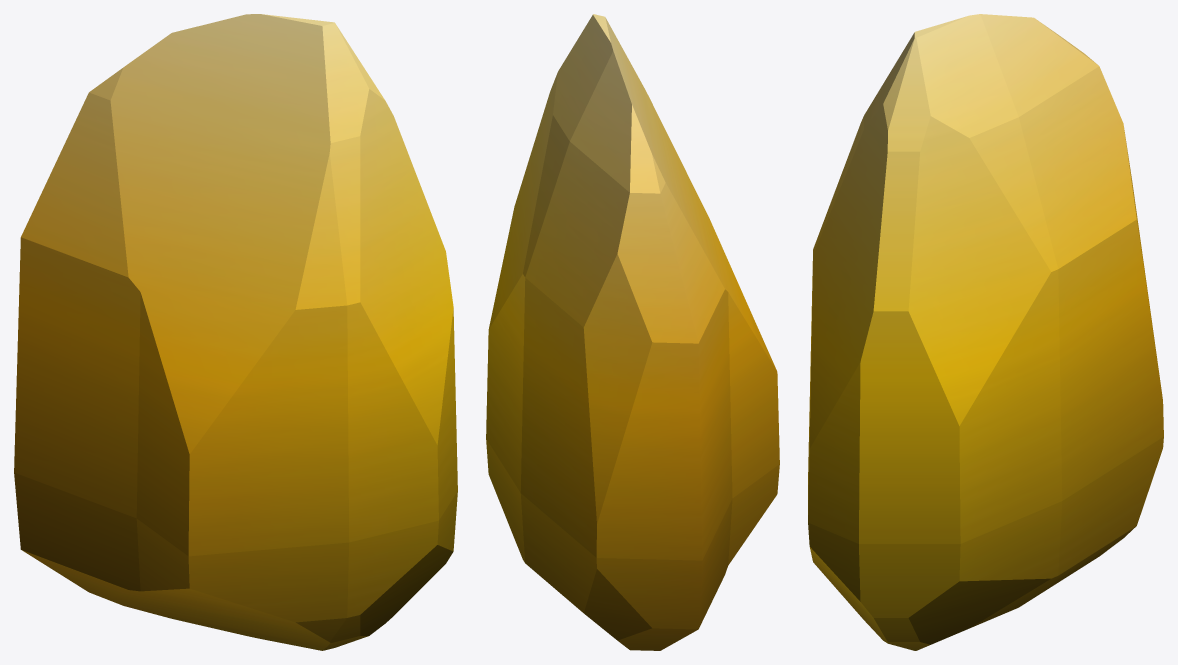
Rendered from boulder1.FBX.
3 renders of one model, left to right at view 1: azimuth 30°, elevation 25°; view 2: azimuth 150°, elevation 25°; view 3: azimuth 270°, elevation 25°, orthographic. The views are drawn at different scales.
Parts seen in each view (by area): view 1: stalag007; view 2: stalag007; view 3: stalag007.
Boxes of the visible parts, bbox=[...] form: stalag007: bbox=[14, 14, 457, 650]; stalag007: bbox=[486, 14, 779, 650]; stalag007: bbox=[808, 14, 1163, 650].
Bounding box in the file's own units: 0.7 × 0.7 × 1.33.
1 material, 1 textured.
